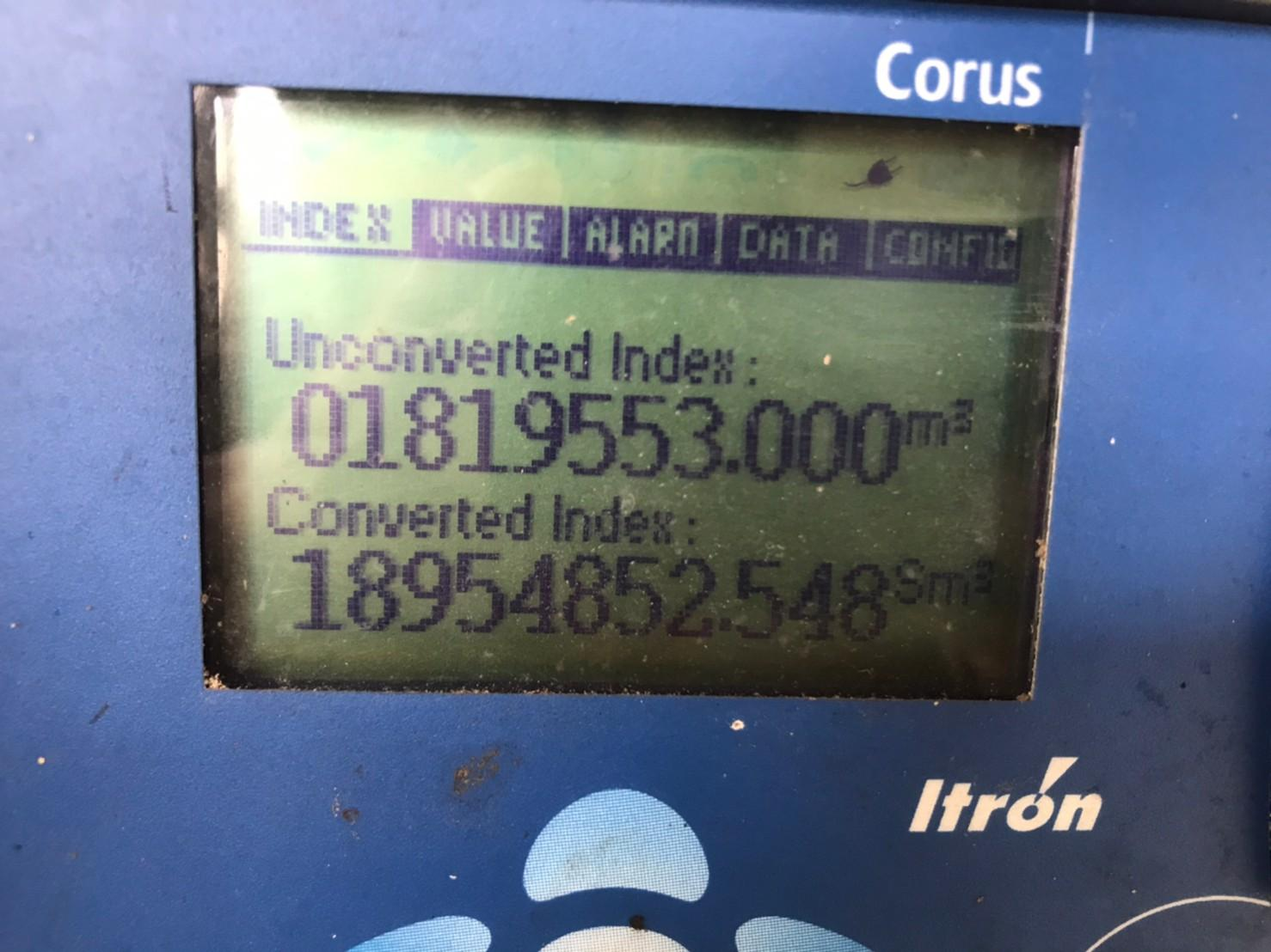digital_screen: (186, 85, 1084, 699)
